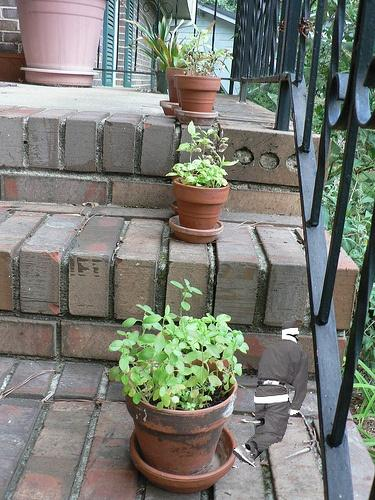tampered: (233, 321, 308, 468)
